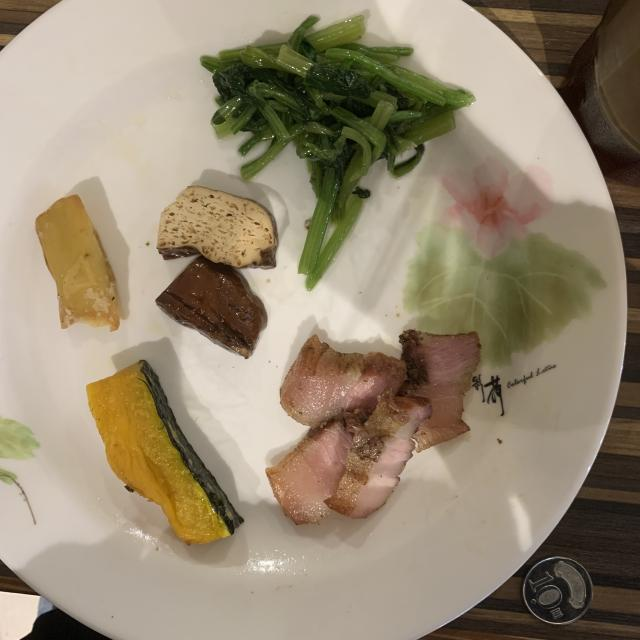coin: (522, 556, 592, 625)
firm tofu: (156, 186, 278, 359)
grilled pork: (266, 330, 480, 524)
mustard greens: (200, 15, 474, 289)
pumpkin: (86, 360, 244, 544)
